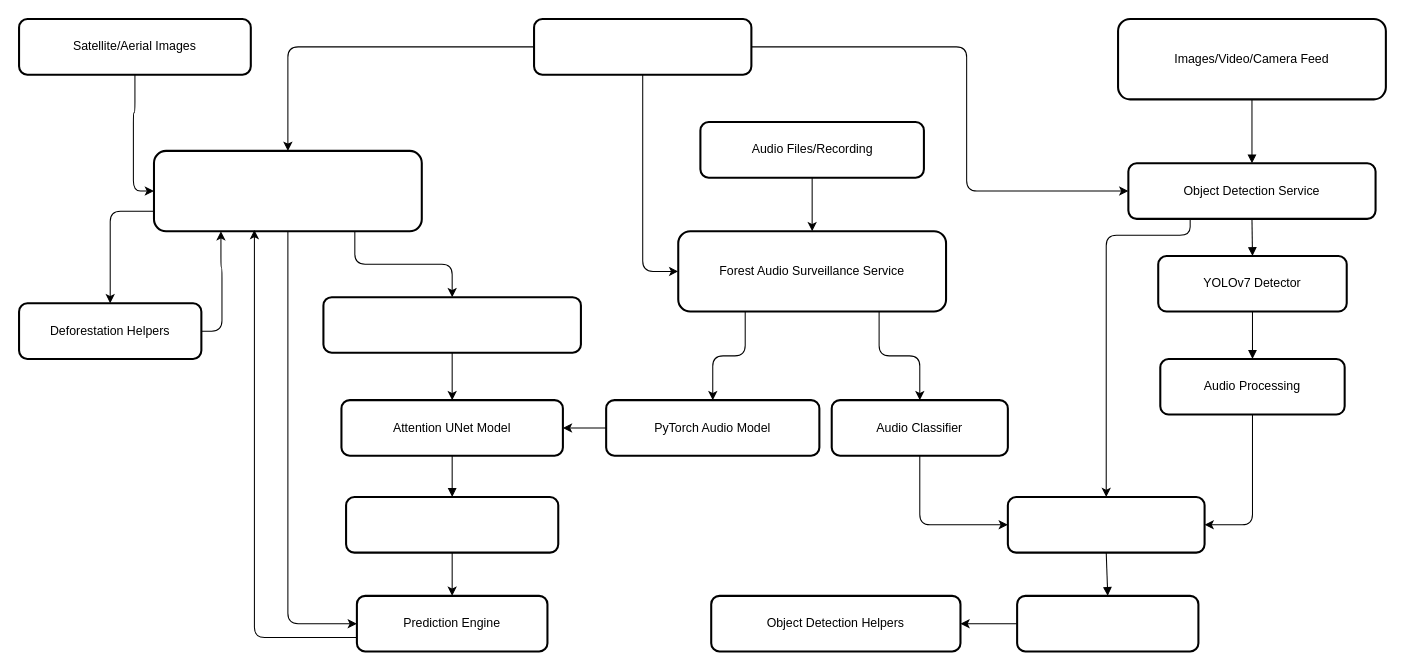
Image size: 1404x670. Some labels were removed from this diagram. Each missing label, with the centre of its shape:
"Deforestation Detection Service" belongs at point 287,190.
"Image Preprocessing" belongs at point 452,524.
"ONNX Converter" belongs at point 1107,623.
"ONNX Deforestation Model" belongs at point 451,324.
"ONNX YOLO Model" belongs at point 1105,524.
"Streamlit Application" belongs at point 642,46.
